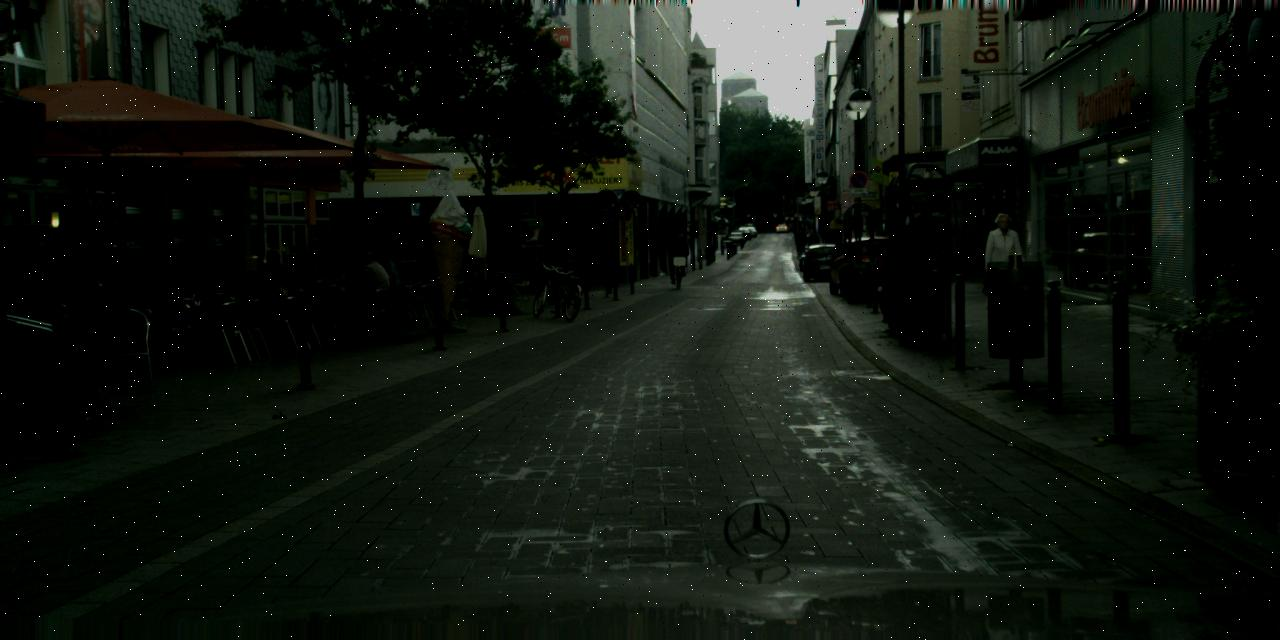ped: (981, 212, 1024, 318), (670, 234, 689, 278)
